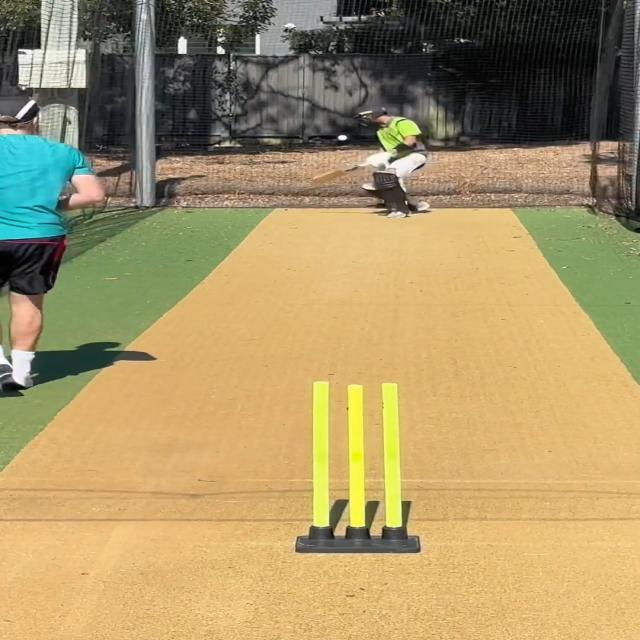ball: (336, 134, 349, 142)
stump: (300, 380, 419, 554)
